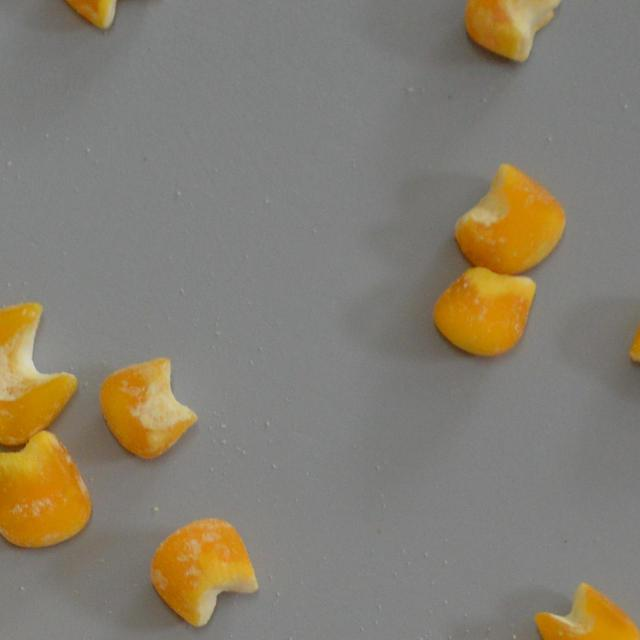dañado: (145, 510, 262, 636), (448, 157, 570, 276), (0, 426, 95, 553), (94, 354, 202, 464), (0, 299, 80, 447), (430, 262, 540, 359), (461, 0, 568, 70), (531, 579, 640, 640), (626, 285, 640, 406)
